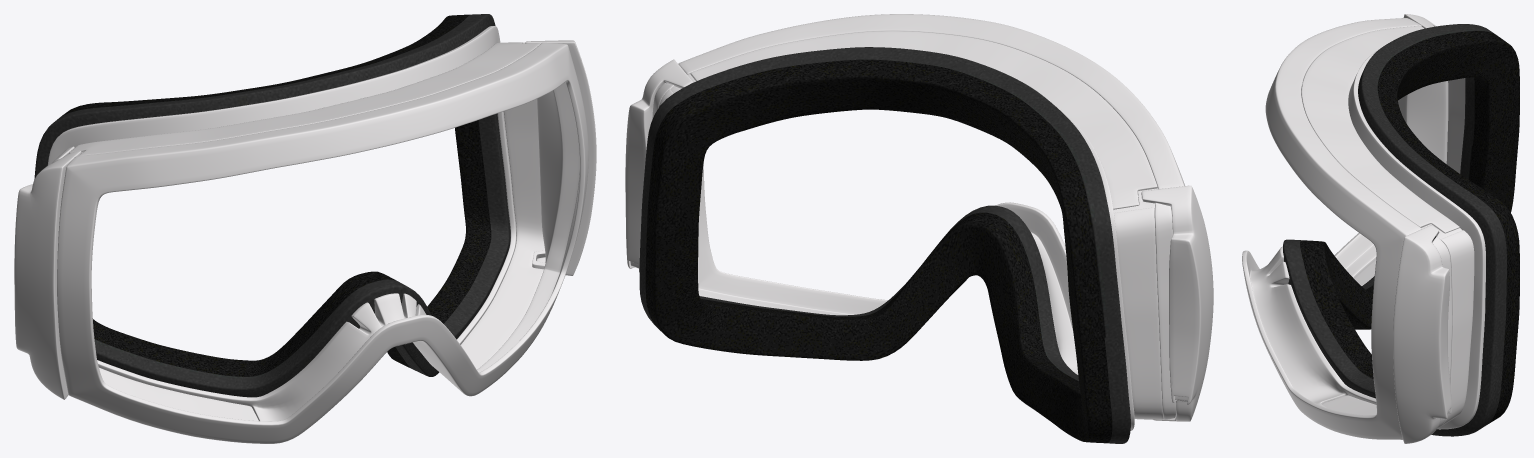
File: FRAME_Styx_MOST020_001.glb
The picture shows the model from 3 angles, left to right: view 1: azimuth 30°, elevation 25°; view 2: azimuth 150°, elevation 25°; view 3: azimuth 270°, elevation 25°; orthographic projection. The views are drawn at different scales.
Visible parts, largest first — view 1: Full_rim_geometry, Frame-Add_Frame-01_geometry_Add_Frame_geometry; view 2: Frame-Add_Frame-01_geometry_Add_Frame_geometry, Full_rim_geometry; view 3: Frame-Add_Frame-01_geometry_Add_Frame_geometry, Full_rim_geometry.
Part boxes in pixels (x1,y1,x2,y2): Full_rim_geometry: [14, 26, 596, 443]; Frame-Add_Frame-01_geometry_Add_Frame_geometry: [34, 14, 544, 420]; Frame-Add_Frame-01_geometry_Add_Frame_geometry: [639, 31, 1163, 443]; Full_rim_geometry: [625, 14, 1213, 430]; Frame-Add_Frame-01_geometry_Add_Frame_geometry: [1283, 24, 1519, 436]; Full_rim_geometry: [1242, 14, 1485, 443].
Bounding box in the file's own units: 0.1754 × 0.0942 × 0.0831.
1 material, 1 textured.
